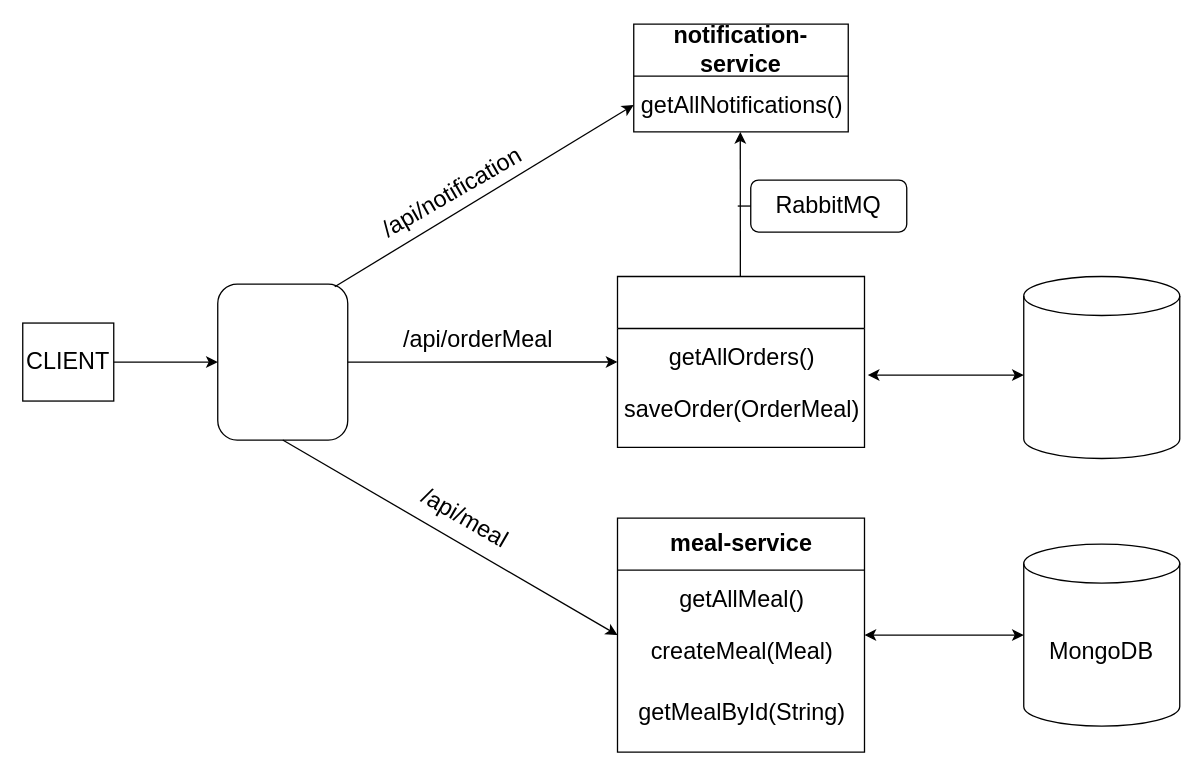
Some shapes in this 1203 by 775 pixel diagram are drawn without their labels. Each missing label, with the box of its shape:
API-GATEWAY: (216, 283, 348, 440)
orderMeal-service: (616, 275, 864, 447)
PostgreSQL: (1022, 275, 1180, 459)
